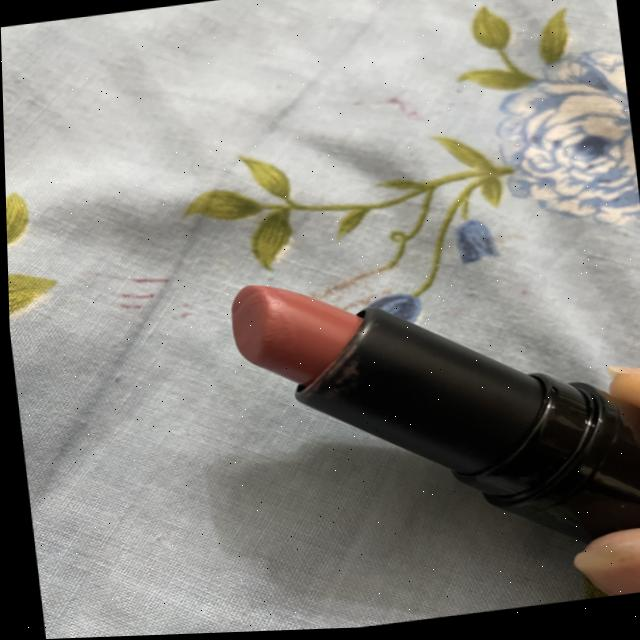lip stick: (204, 220, 640, 600)
